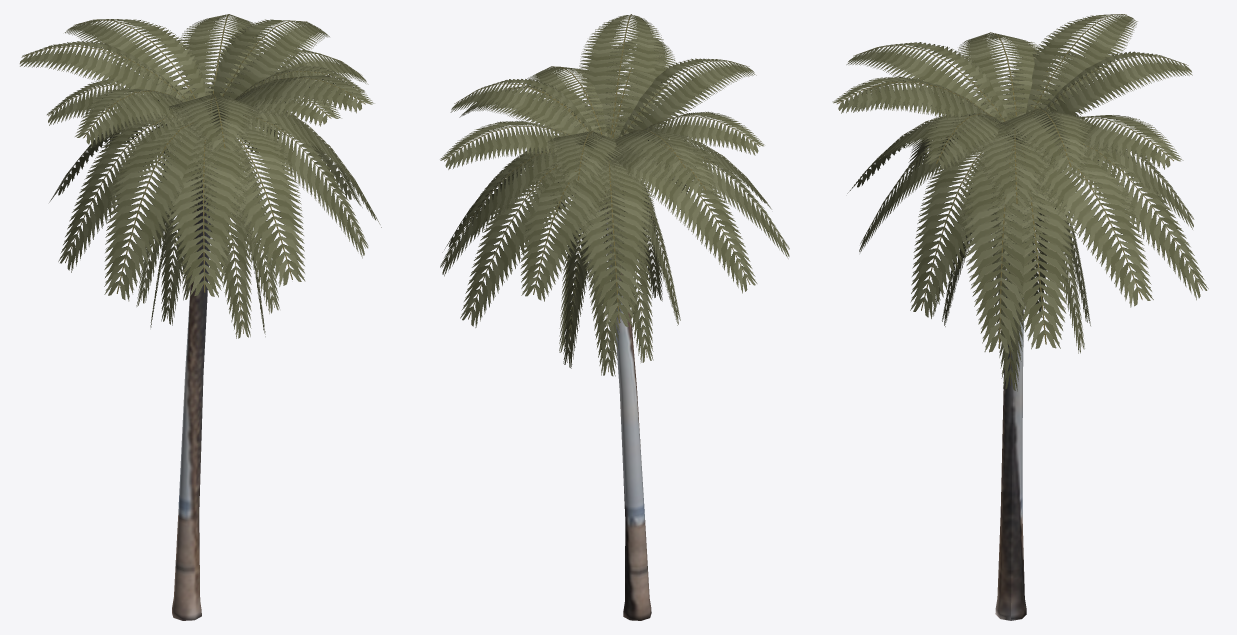
The model's file is palm-distant.glb.
The picture shows the model from 3 angles, left to right: view 1: azimuth 30°, elevation 25°; view 2: azimuth 150°, elevation 25°; view 3: azimuth 270°, elevation 25°; orthographic projection. The views are drawn at different scales.
Parts seen in each view (by area): view 1: Frame; view 2: Frame; view 3: Frame.
Part boxes in pixels (left/top/right/bottom): Frame: left=19, top=14, right=381, bottom=620; Frame: left=440, top=14, right=789, bottom=620; Frame: left=832, top=14, right=1208, bottom=620.
Size of the model in its own units: 6.06 by 9.92 by 6.39.
Materials: 2 (2 with a texture image).
